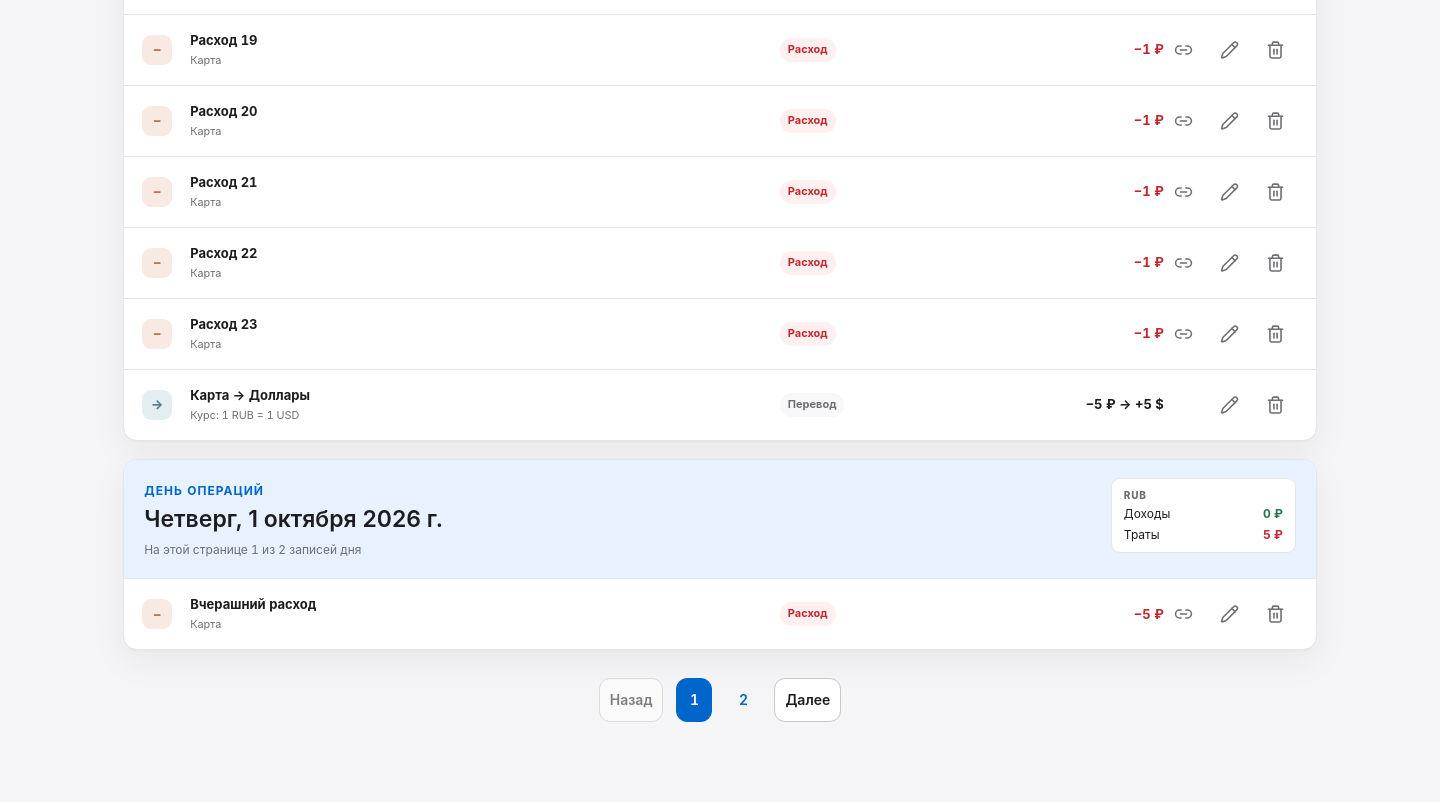
day-grouped activity timeline › shows 25 mixed entries per page, full day totals, and searches from the first page
(page scrolled)
Expected: the text "Карта → Доллары" is shown, [190,387,310,403]
Expected: the text "На этой странице 1 из 2 записей дня" is shown, [144,542,361,557]
Click the button "2" at (743, 700), box [725,678,761,722]
(page scrolled)
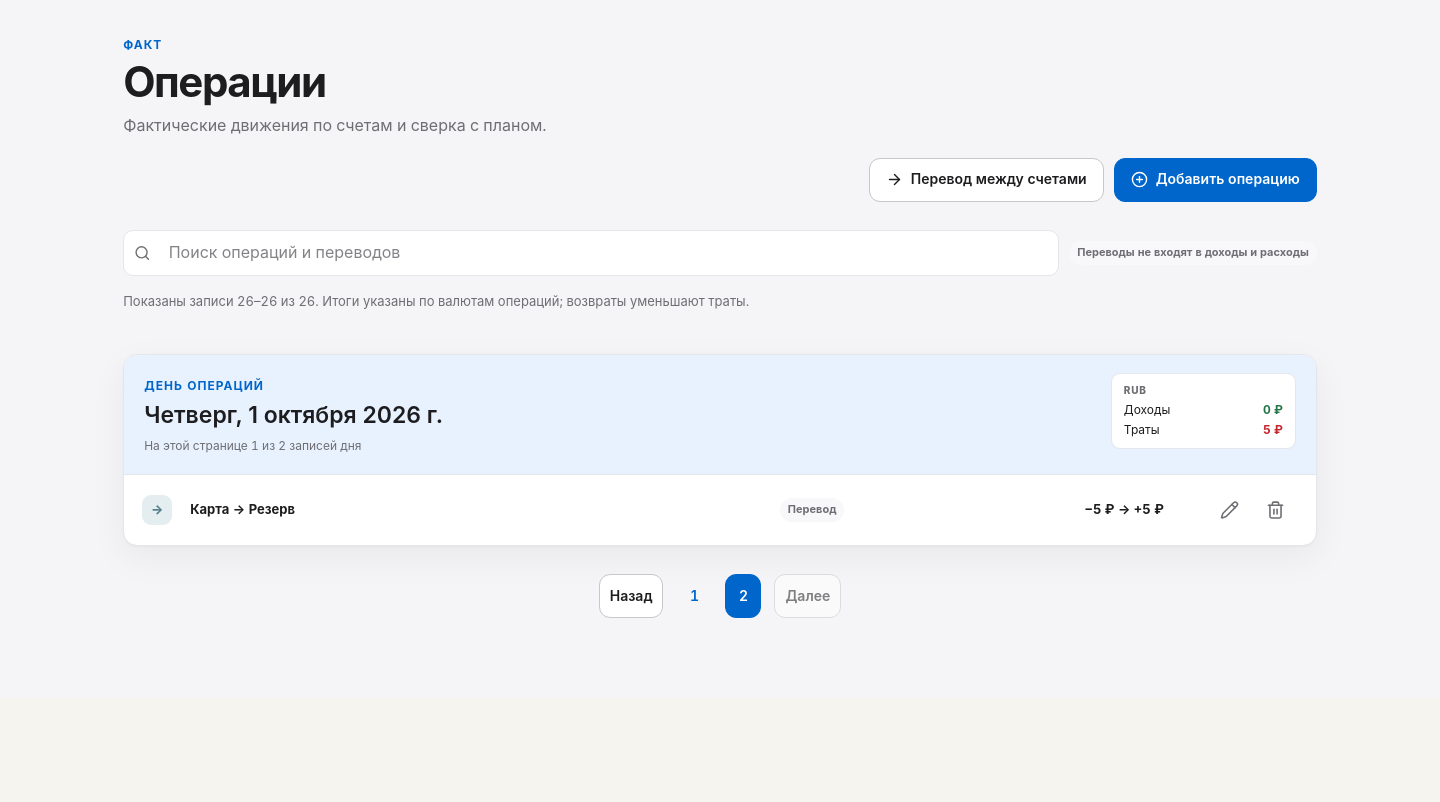
Expected: the text "Карта → Резерв" is shown, [190,501,295,517]
Expected: the text "Показаны записи 26–26 из 26" is shown, [123,293,749,309]
Type "Кофе" into the field with placeholder "Поиск операций и переводов" at (604, 253), box [160,231,1048,275]
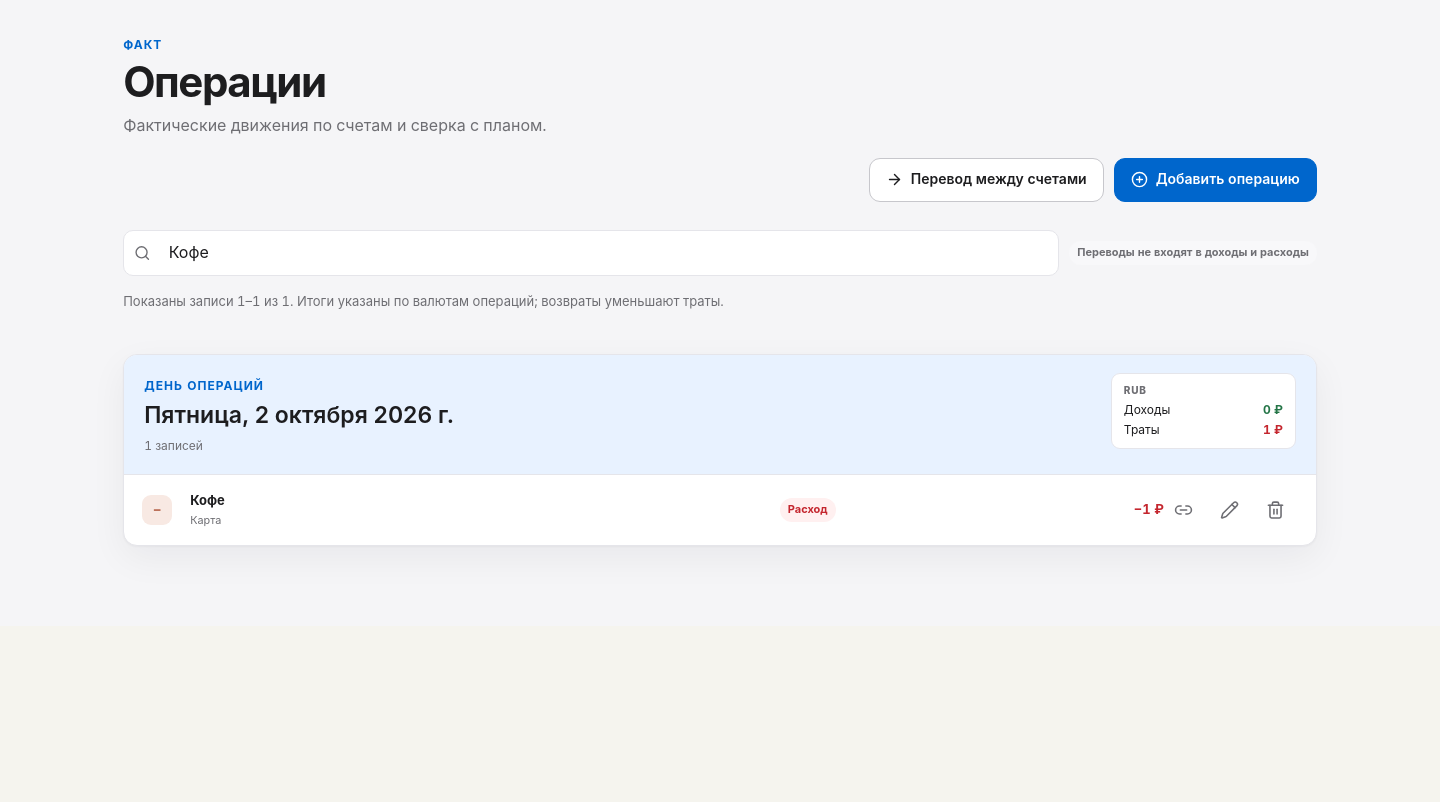
Expected: the text "Кофе" is shown, [190,492,225,508]
